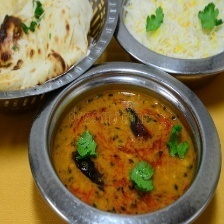rice: (126, 0, 224, 59)
